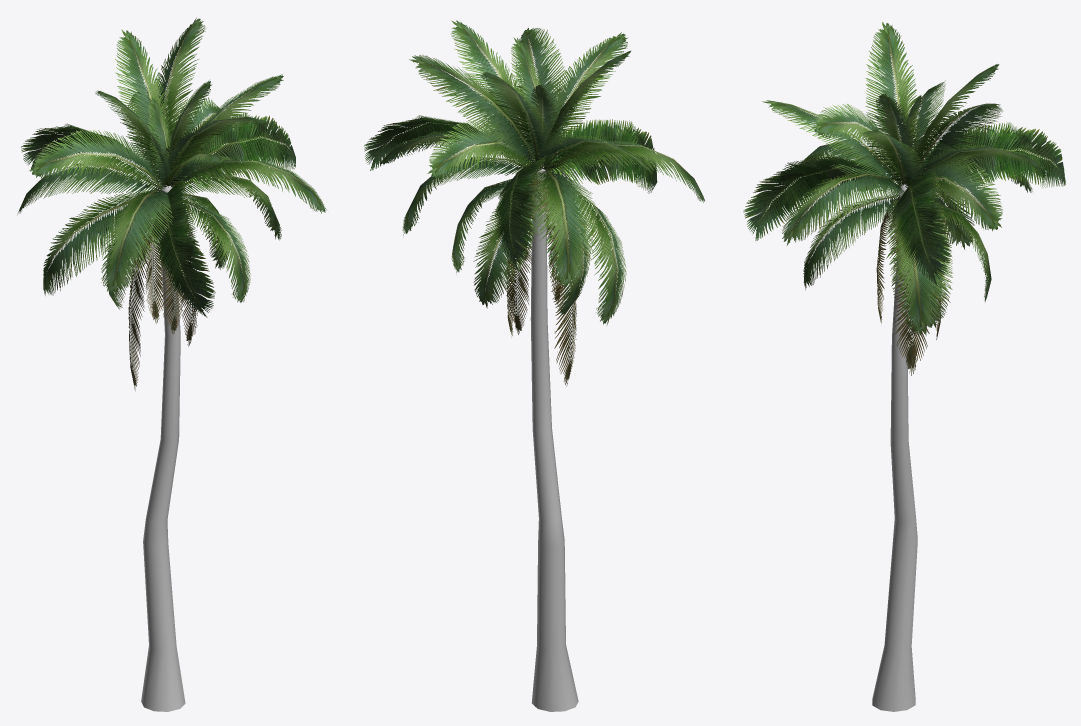
The model's file is Palm_tree.fbx.
3 renders of one model, left to right at view 1: azimuth 30°, elevation 25°; view 2: azimuth 150°, elevation 25°; view 3: azimuth 270°, elevation 25°, orthographic. The views are drawn at different scales.
Visible parts, largest first — view 1: polySurface302; view 2: polySurface302; view 3: polySurface302.
Part boxes in pixels (x1,y1,x2,y2): polySurface302: [17, 17, 326, 711]; polySurface302: [364, 20, 704, 711]; polySurface302: [743, 22, 1065, 711].
Bounding box in the file's own units: 5.26 × 11.71 × 5.39.
